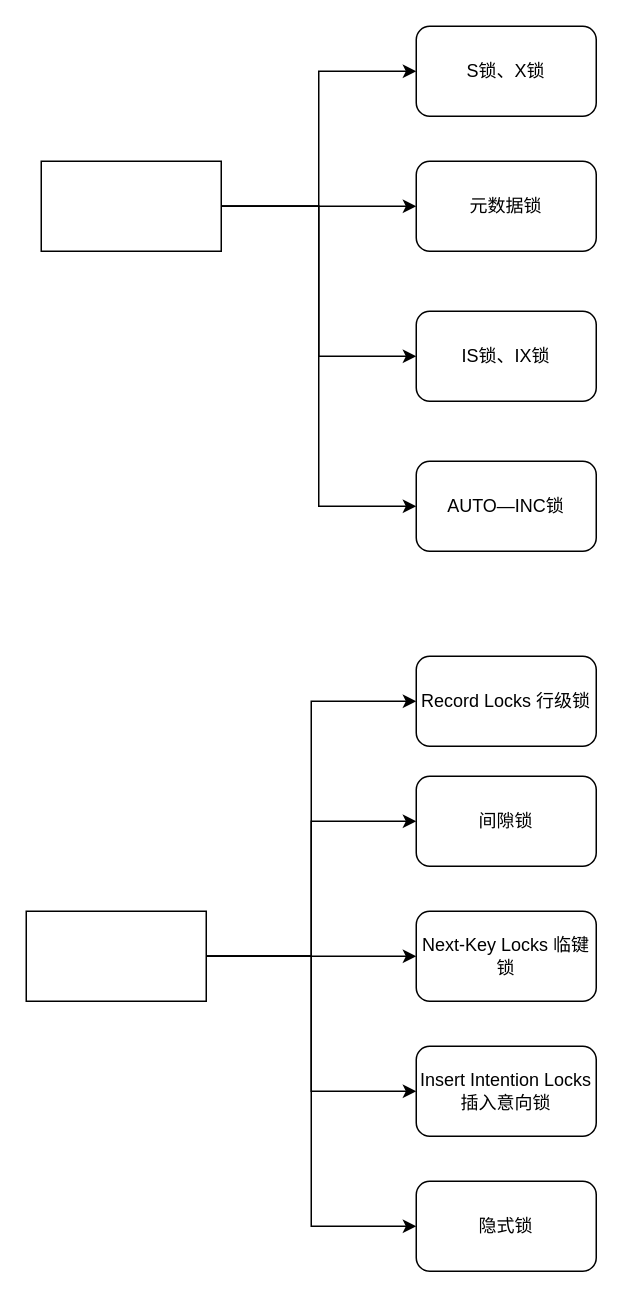
The diagram is 623 pixels wide and 1298 high, and some of its shapes have lost their labels. The centre of each missing label's shape, as x and y in pixels:
行级别锁: the point at 115,955
表级别锁: the point at 130,205
